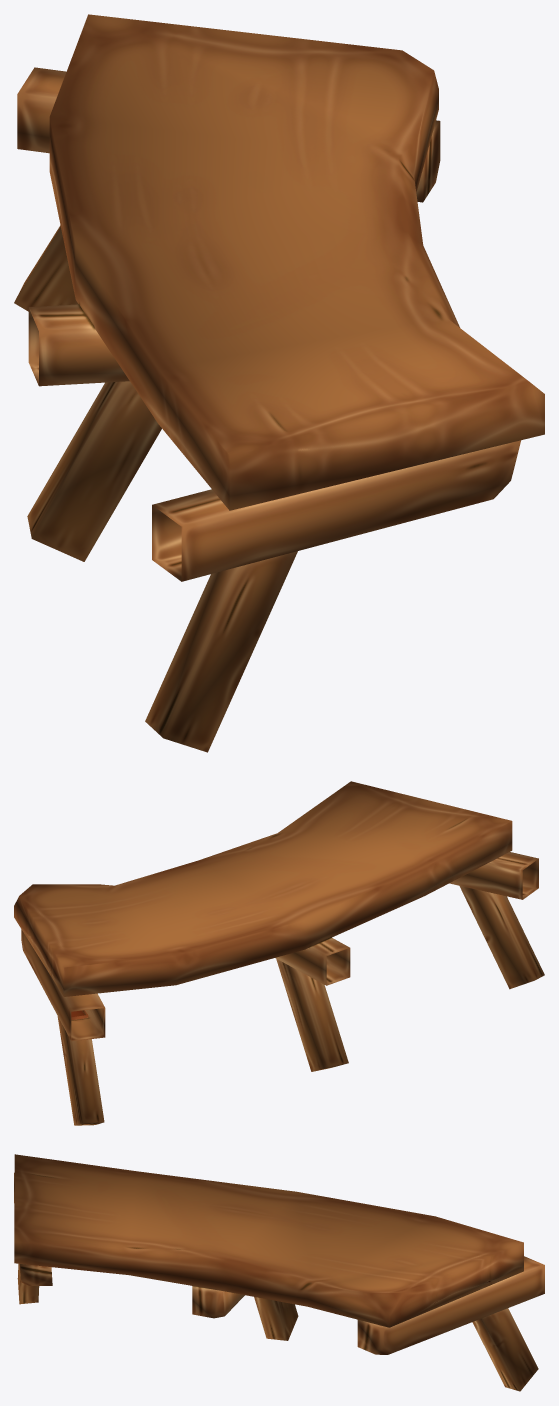
File: Shelf.fbx
3 views of the same model, one above another, from view 1: azimuth 30°, elevation 25°; view 2: azimuth 150°, elevation 25°; view 3: azimuth 270°, elevation 25° (orthographic). The views are drawn at different scales.
Parts seen in each view (by area): view 1: U_Shelf; view 2: U_Shelf; view 3: U_Shelf.
Part boxes in pixels (x1,y1,x2,y2): U_Shelf: (14, 14, 544, 752); U_Shelf: (14, 781, 544, 1125); U_Shelf: (14, 1154, 544, 1391).
Bounding box in the file's own units: 135 × 62.65 × 189.
Materials: 1 (1 with a texture image).
